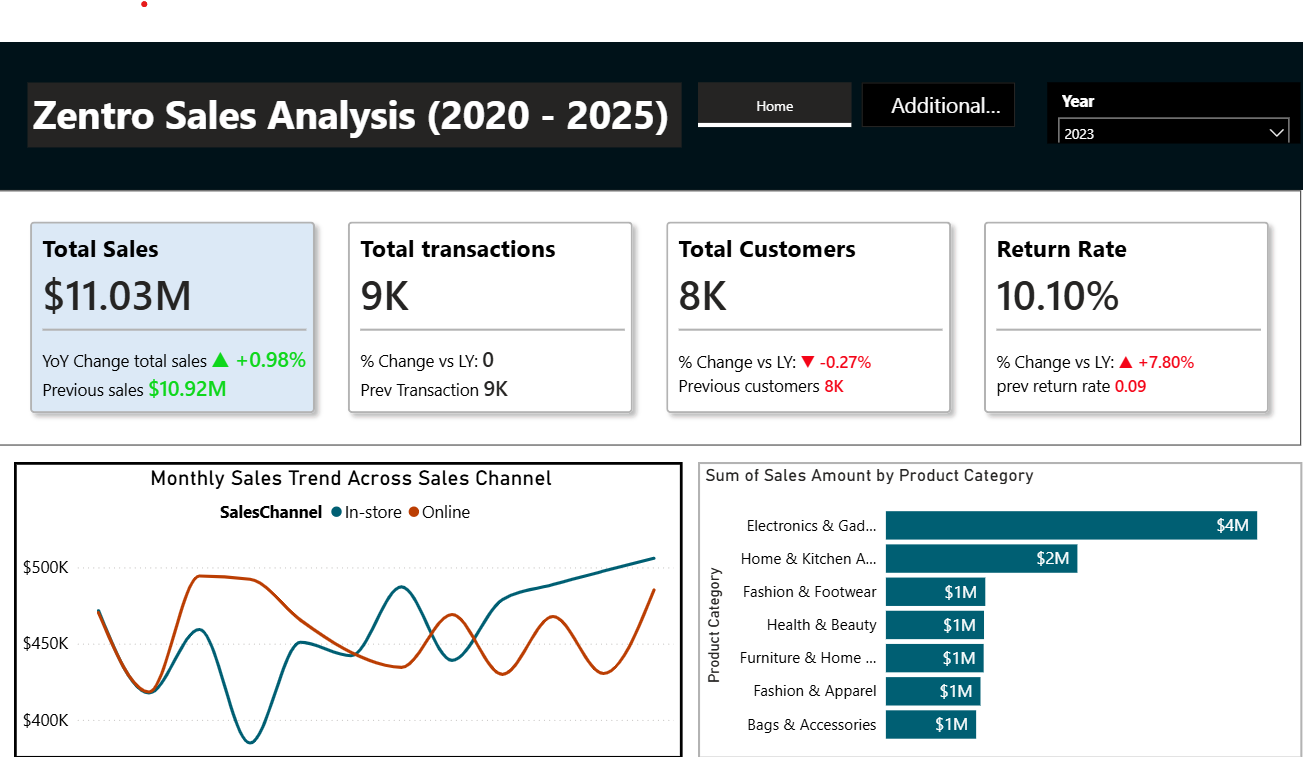

What the dashboard file says about the page in this screenshot:
{"tool":"powerbi","page":{"name":"Home","canvas":[1280,720],"ordinal":0},"visuals":[{"type":"shape","box":[0,0,1279.7,142.9],"z":0},{"type":"cardVisual","fields":{"Data":["Measure.Total Sales","Measure.Total transactions","_Measure.Total Customers","_Measure.Return Rate"]},"box":[0,143.6,1256.7,245.7],"z":1000},{"type":"slicer","fields":{"Values":["Date Table.Year"]},"box":[1012.4,38.4,244.3,58.4],"z":2000},{"type":"lineChart","title":"Monthly Sales Trend Across Sales Channel","fields":{"Series":["zentro.SalesChannel"],"Category":["Date Table.Month Name"],"Y":["Sum(zentro.TotalSales)"]},"box":[13.8,405.6,645.2,287.3],"z":3000},{"type":"barChart","fields":{"Y":["Sum(zentro.TotalSales)"],"Category":["zentro.Product Category"]},"box":[674,406,583,287],"z":4000},{"type":"pageNavigator","box":[674.4,49.2,338,43],"z":5000},{"type":"textbox","box":[0,38.4,640.6,58.4],"z":6000}]}

Visuals, with their boxes on the page's 1280x720 design canvas (x1, y1, x2, y2). These are canvas units, not pixel positions in the 1303x757 screenshot, which may show the page scaled, cropped or inside an application window:
shape: {"left": 0, "top": 0, "right": 1280, "bottom": 143}
cardVisual - Measure.Total Sales x Measure.Total transactions: {"left": 0, "top": 144, "right": 1257, "bottom": 389}
slicer - Date Table.Year: {"left": 1012, "top": 38, "right": 1257, "bottom": 97}
"Monthly Sales Trend Across Sales Channel" lineChart: {"left": 14, "top": 406, "right": 659, "bottom": 693}
barChart - Sum(zentro.TotalSales) x zentro.Product Category: {"left": 674, "top": 406, "right": 1257, "bottom": 693}
pageNavigator: {"left": 674, "top": 49, "right": 1012, "bottom": 92}
textbox: {"left": 0, "top": 38, "right": 641, "bottom": 97}
